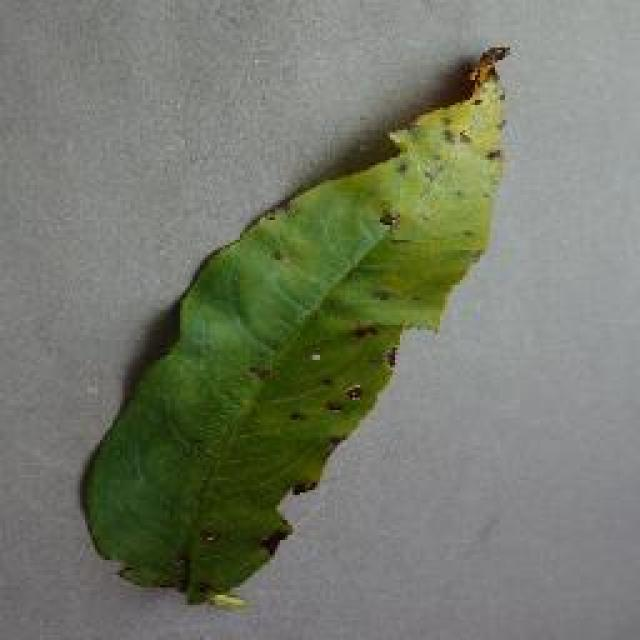Peach_Bacterial_Spot: (332, 85, 476, 353)
